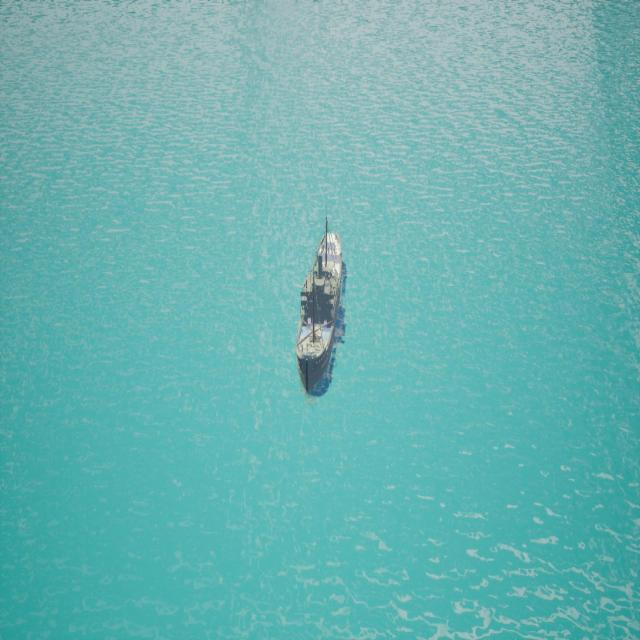fishing ship: (284, 206, 360, 411)
